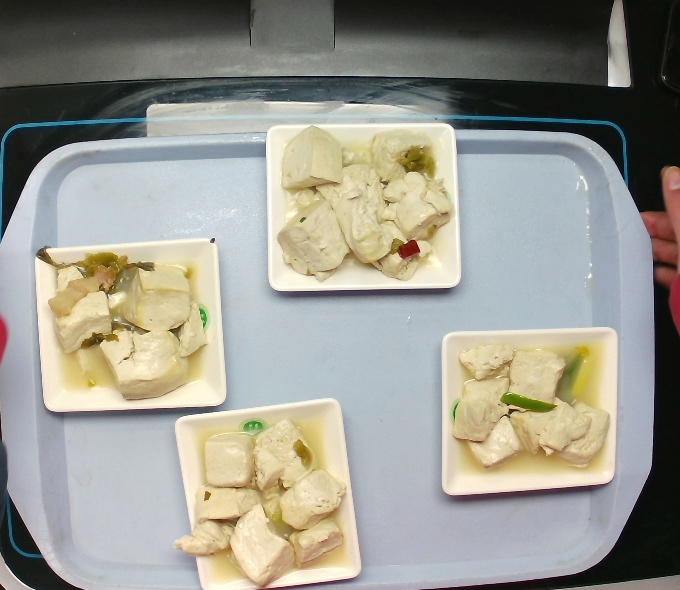wcq-LuDouFu: (35, 236, 226, 411), (266, 124, 461, 291), (166, 421, 361, 588), (431, 322, 626, 489)
